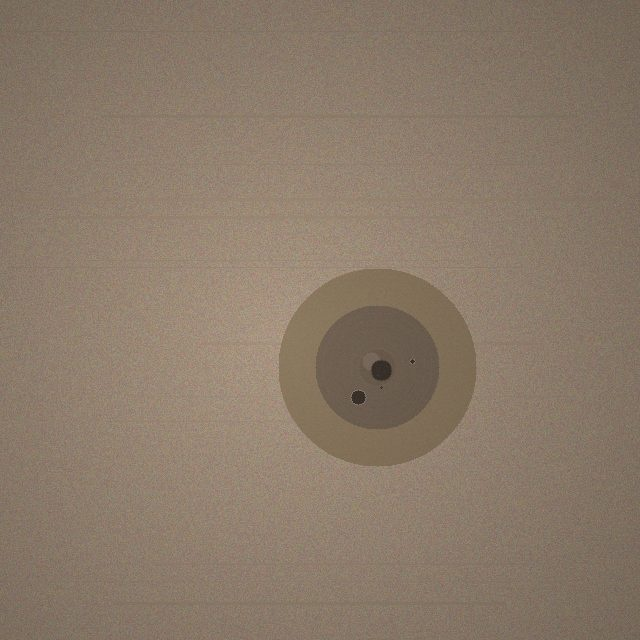shrinkage: (278, 268, 476, 466)
